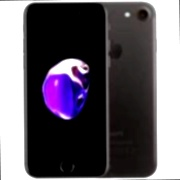iphone: (70, 2, 158, 178)
